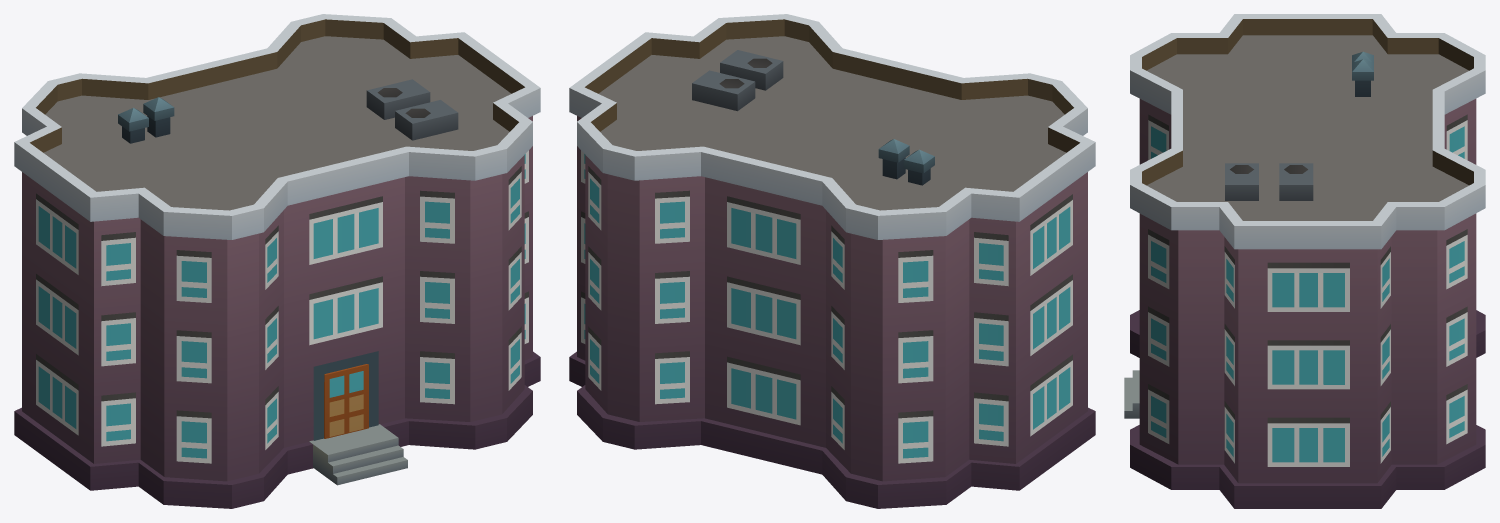
Rendered from Building_cartoon_26.fbx.
The picture shows the model from 3 angles, left to right: view 1: azimuth 30°, elevation 25°; view 2: azimuth 150°, elevation 25°; view 3: azimuth 270°, elevation 25°; orthographic projection. The views are drawn at different scales.
Parts seen in each view (by area): view 1: Building_cartoon_26; view 2: Building_cartoon_26; view 3: Building_cartoon_26.
Part boxes in pixels (x1,y1,x2,y2): Building_cartoon_26: (14,14,540,508); Building_cartoon_26: (569,14,1095,508); Building_cartoon_26: (1124,14,1485,508).
Size of the model in its own units: 1880 by 1245 by 1354.
